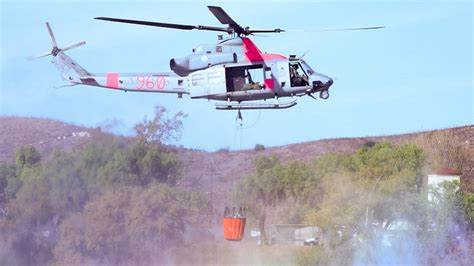Aeronef_de_service: (22, 2, 397, 256)
